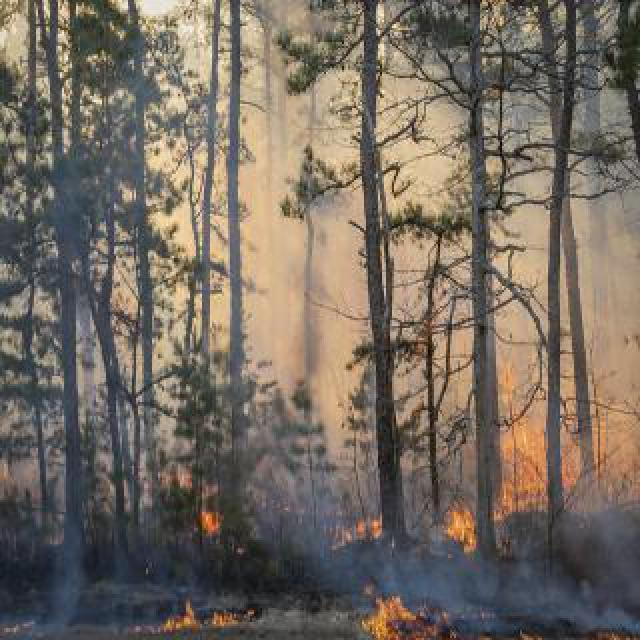Fire: (500, 340, 544, 516), (124, 596, 252, 638), (358, 582, 418, 638), (330, 502, 388, 550), (444, 476, 484, 544), (198, 490, 232, 552), (516, 626, 556, 638)
Smoke: (54, 200, 116, 508), (442, 546, 638, 622), (1, 506, 106, 639), (392, 454, 442, 584)
